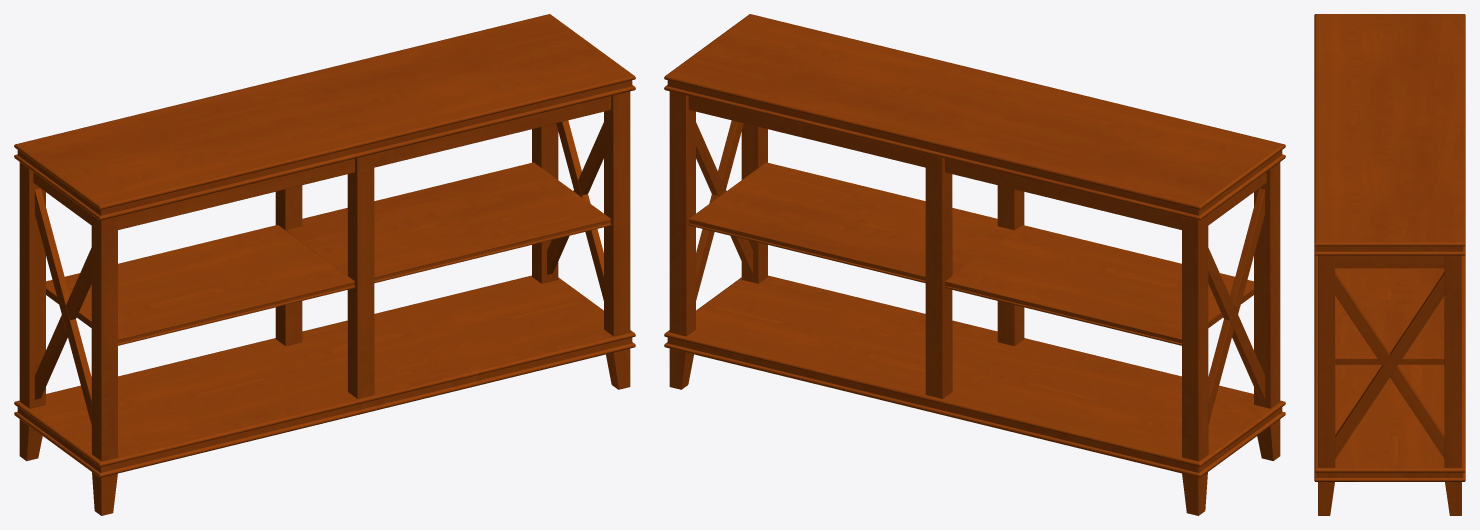
Rendered from abo-B07DBHF136.glb.
3 views of the same model, side by side, from view 1: azimuth 30°, elevation 25°; view 2: azimuth 150°, elevation 25°; view 3: azimuth 270°, elevation 25° (orthographic). The views are drawn at different scales.
Bounding box in the file's own units: 1.37 × 0.762 × 0.381.
Materials: 1 (1 with a texture image).
